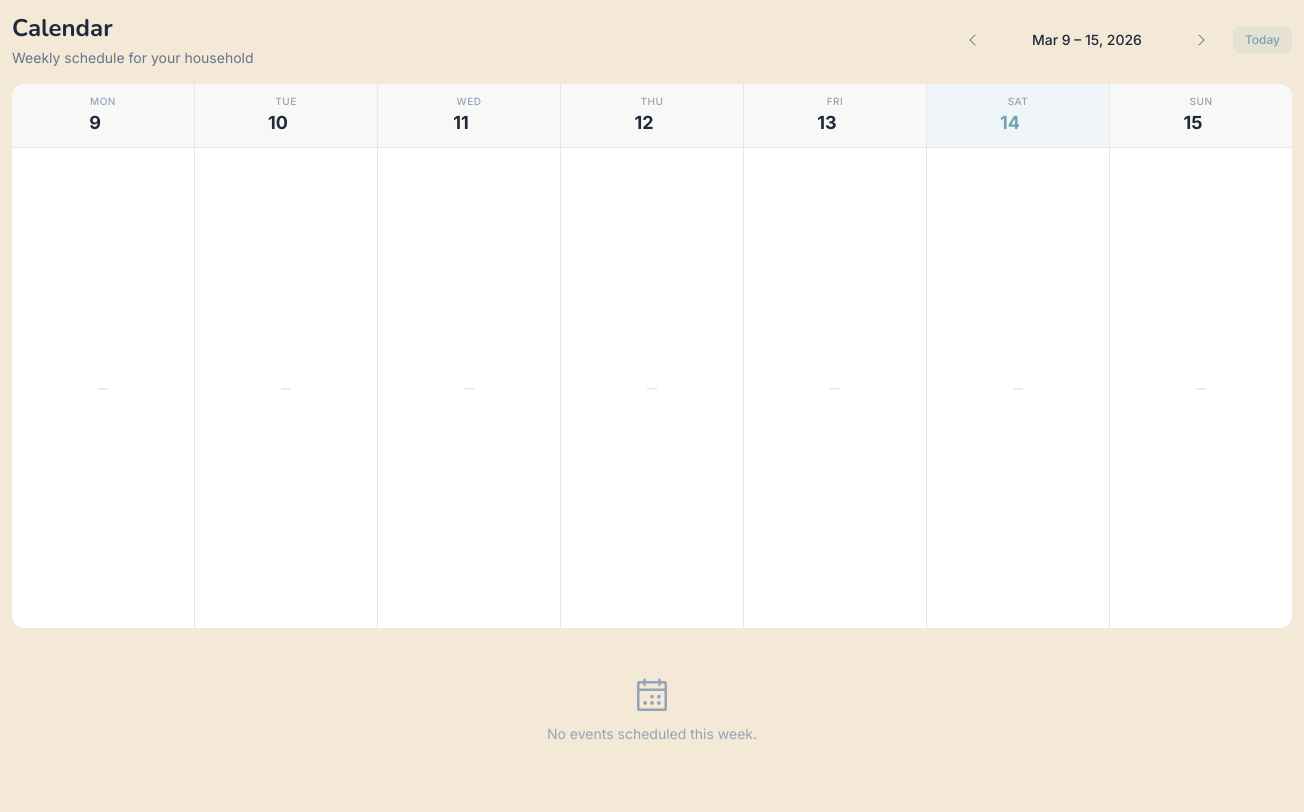
Scenario: WeeklyCalendar › returns to today when Today button is clicked after navigating
# Navigate forward
Click the button named "Next week" at (1201, 40), box [1185, 24, 1217, 56]
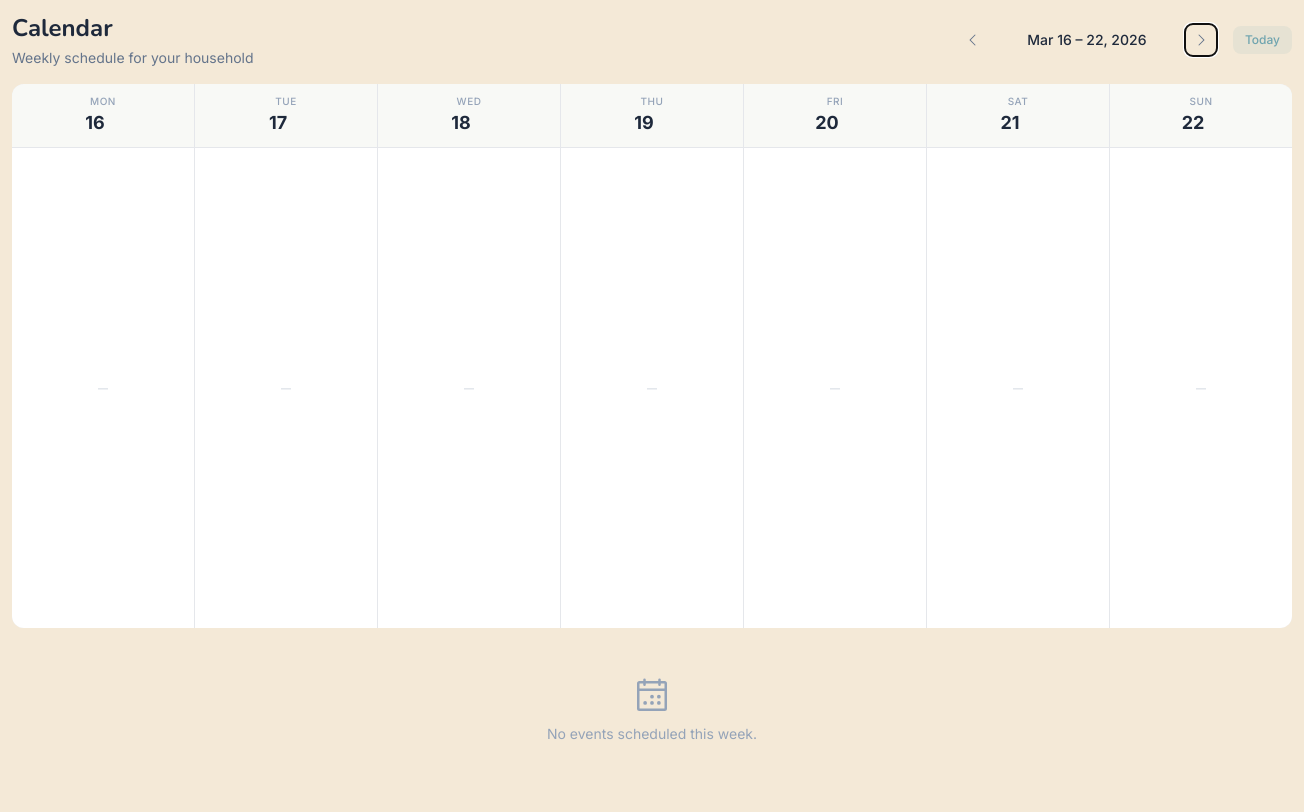
# Click today
Click the button "Today" at (1262, 40), box [1233, 26, 1292, 54]
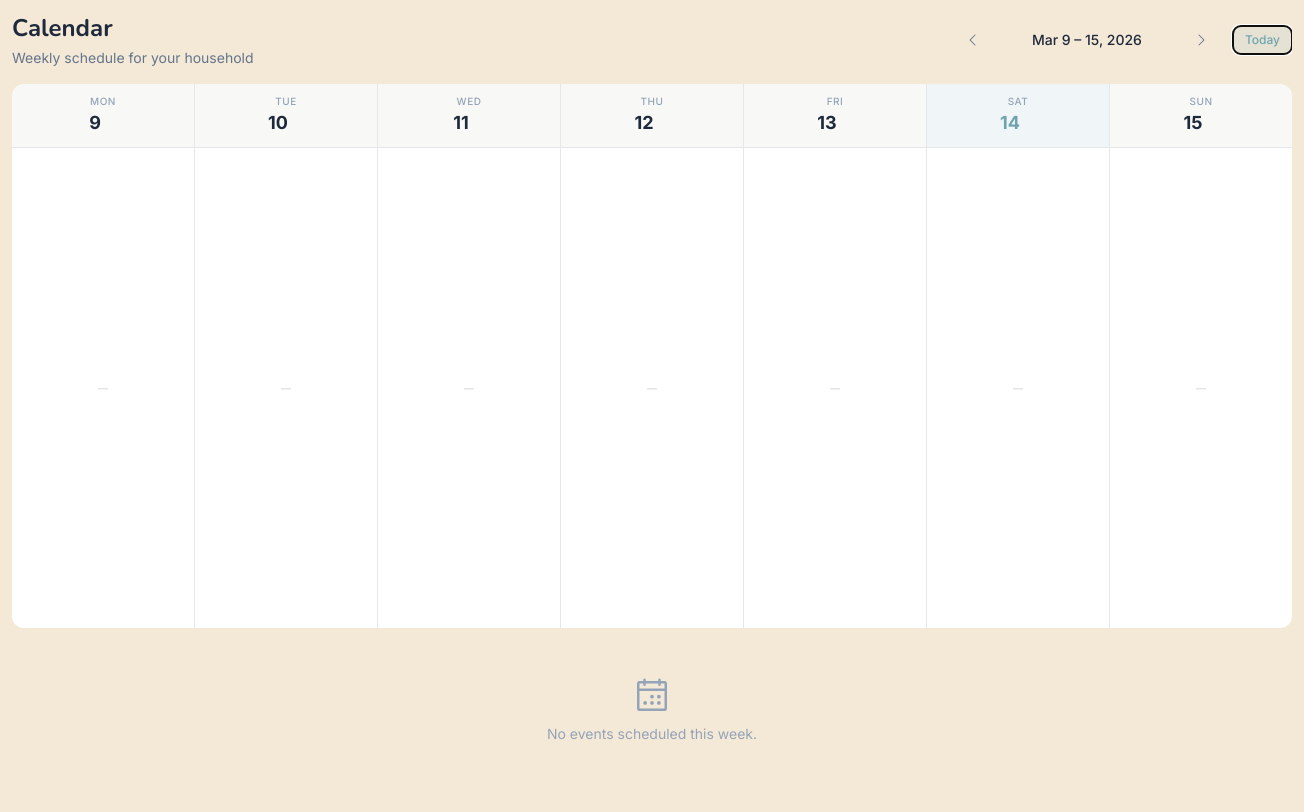
Result: the text "14" is shown at [1000, 109, 1020, 137]
